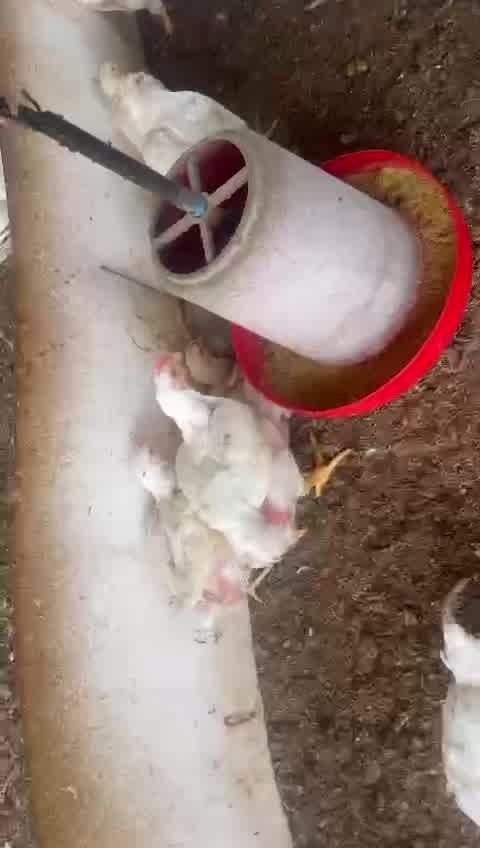Normal: (152, 354, 330, 564), (134, 455, 309, 615), (105, 59, 237, 140)
